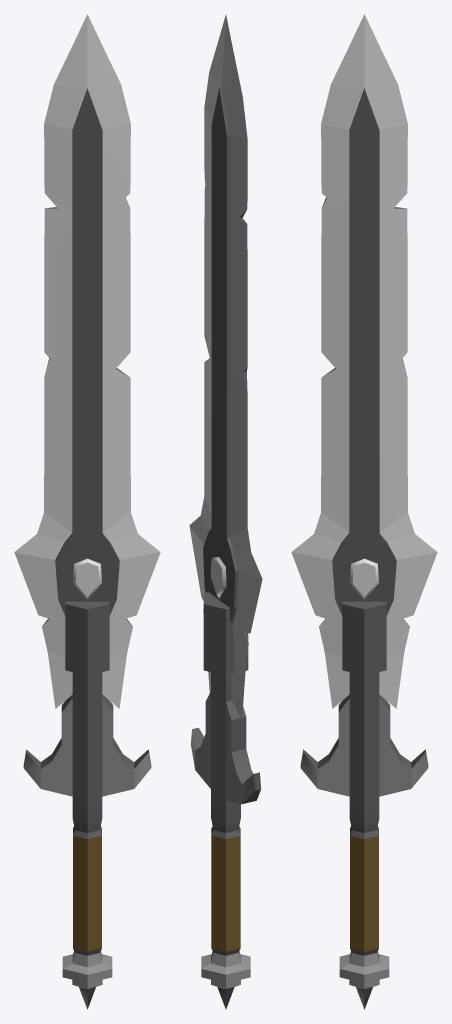
The model's file is sword_Player.fbx.
3 views of the same model, side by side, from view 1: azimuth 90°, elevation 25°; view 2: azimuth 210°, elevation 25°; view 3: azimuth 270°, elevation 25° (orthographic).
Parts seen in each view (by area): view 1: sword; view 2: sword; view 3: sword.
Part boxes in pixels (x1,y1,x2,y2): sword: [14, 14, 160, 1009]; sword: [189, 15, 262, 1009]; sword: [291, 14, 437, 1009].
Bounding box in the file's own units: 7.75 × 149 × 19.84.
